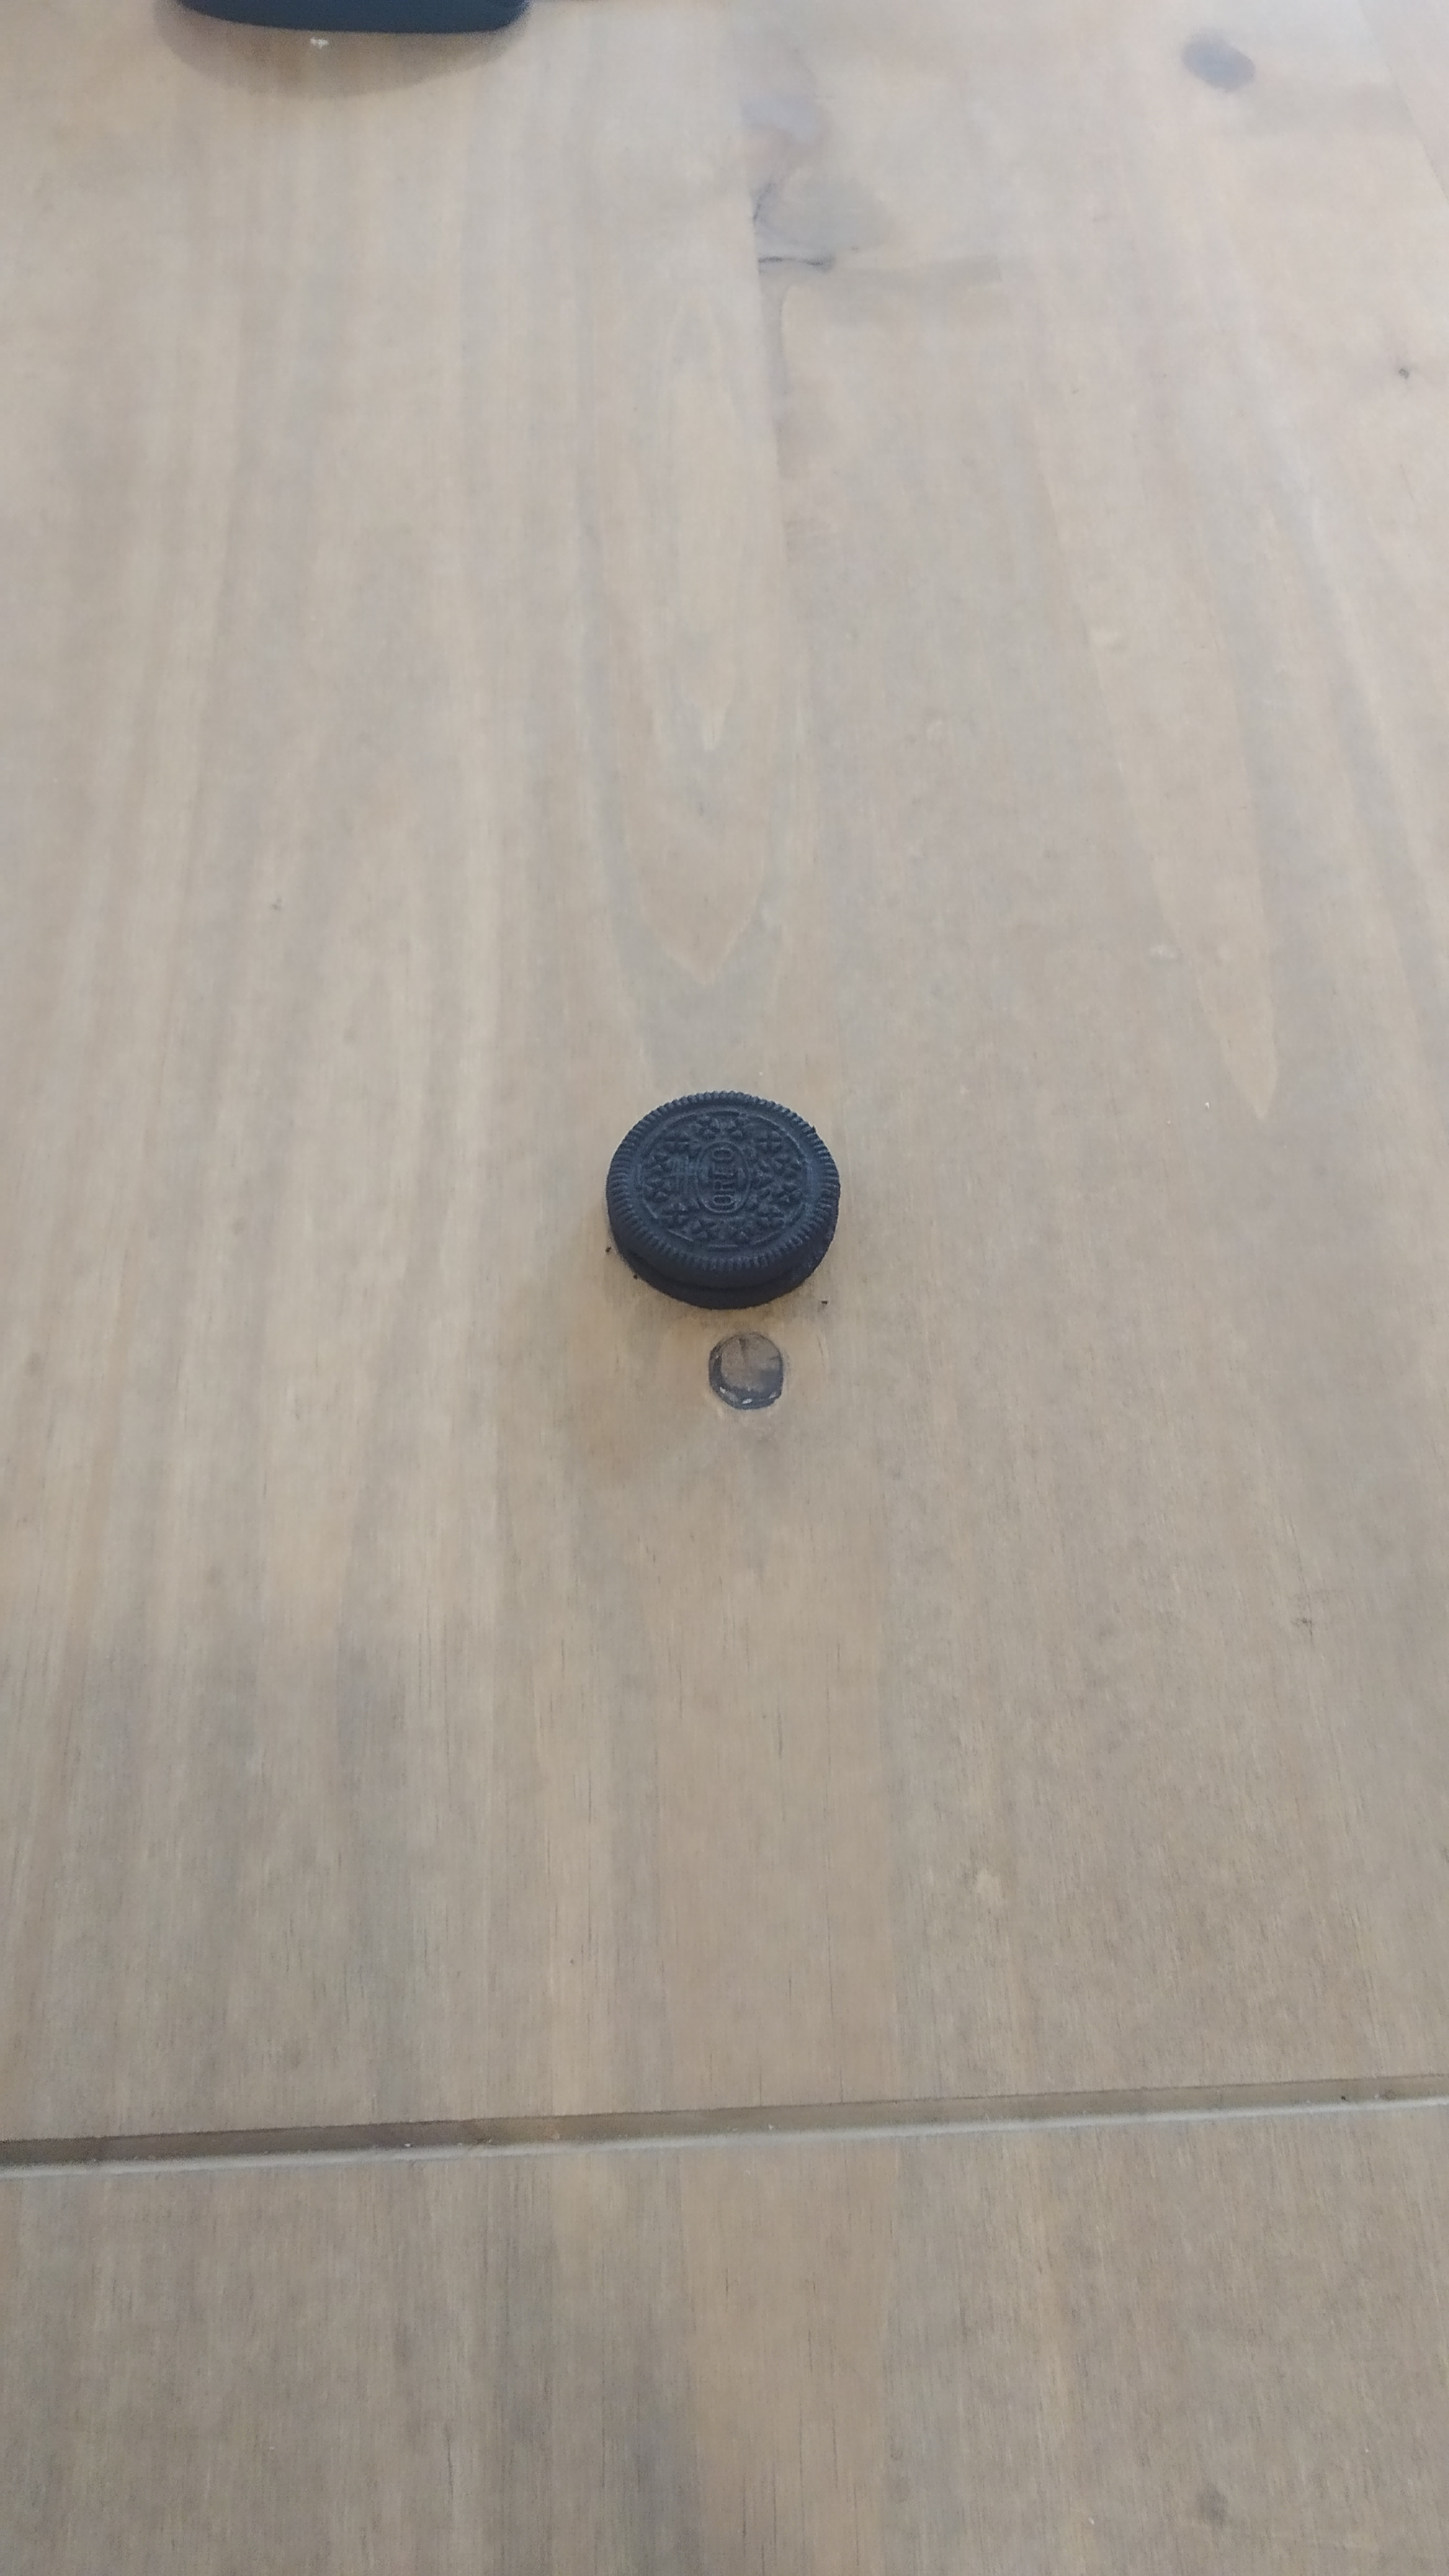oreo: (605, 1088, 842, 1311)
